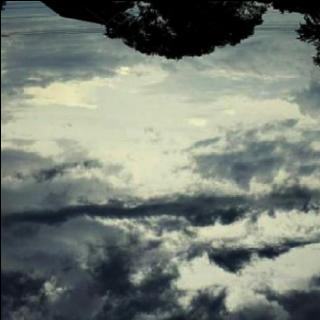Nimbostratus: (0, 22, 320, 320)
